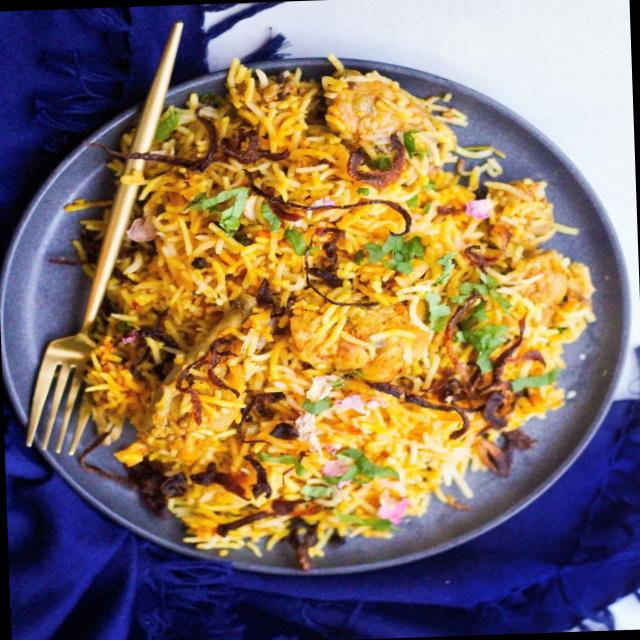Biryani: (0, 59, 593, 590)
